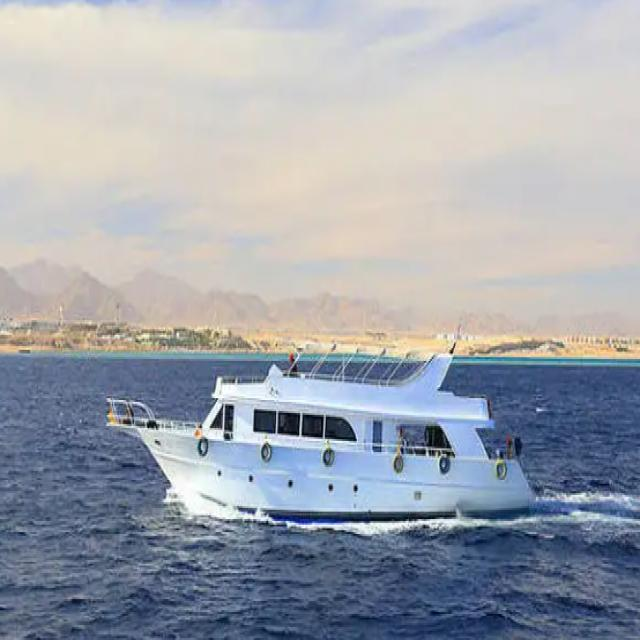houseboat: (101, 315, 540, 552)
